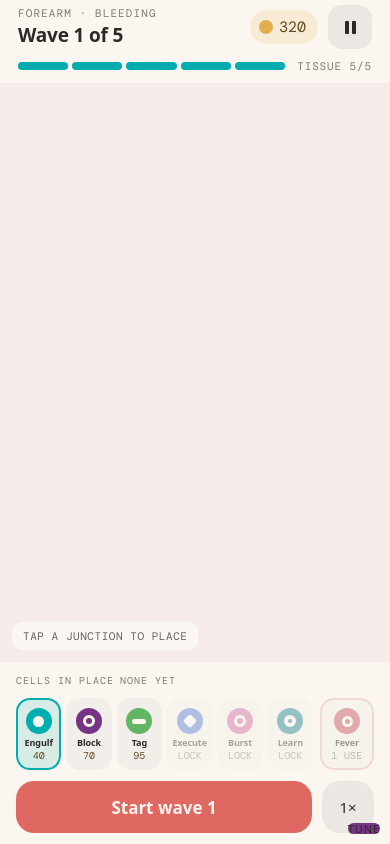
FightPage › shows the case rule on the board only while a wave is running
The width and height of the screenshot is (390, 844).
Click the button with test id "start-wave": (164, 807) [16, 781, 312, 833]
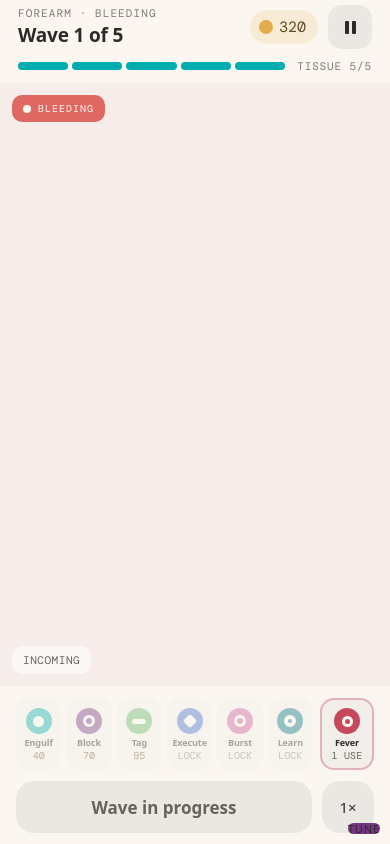
Now the element with test id "board-modifier" reads "BLEEDING", box [38, 102, 94, 115]
